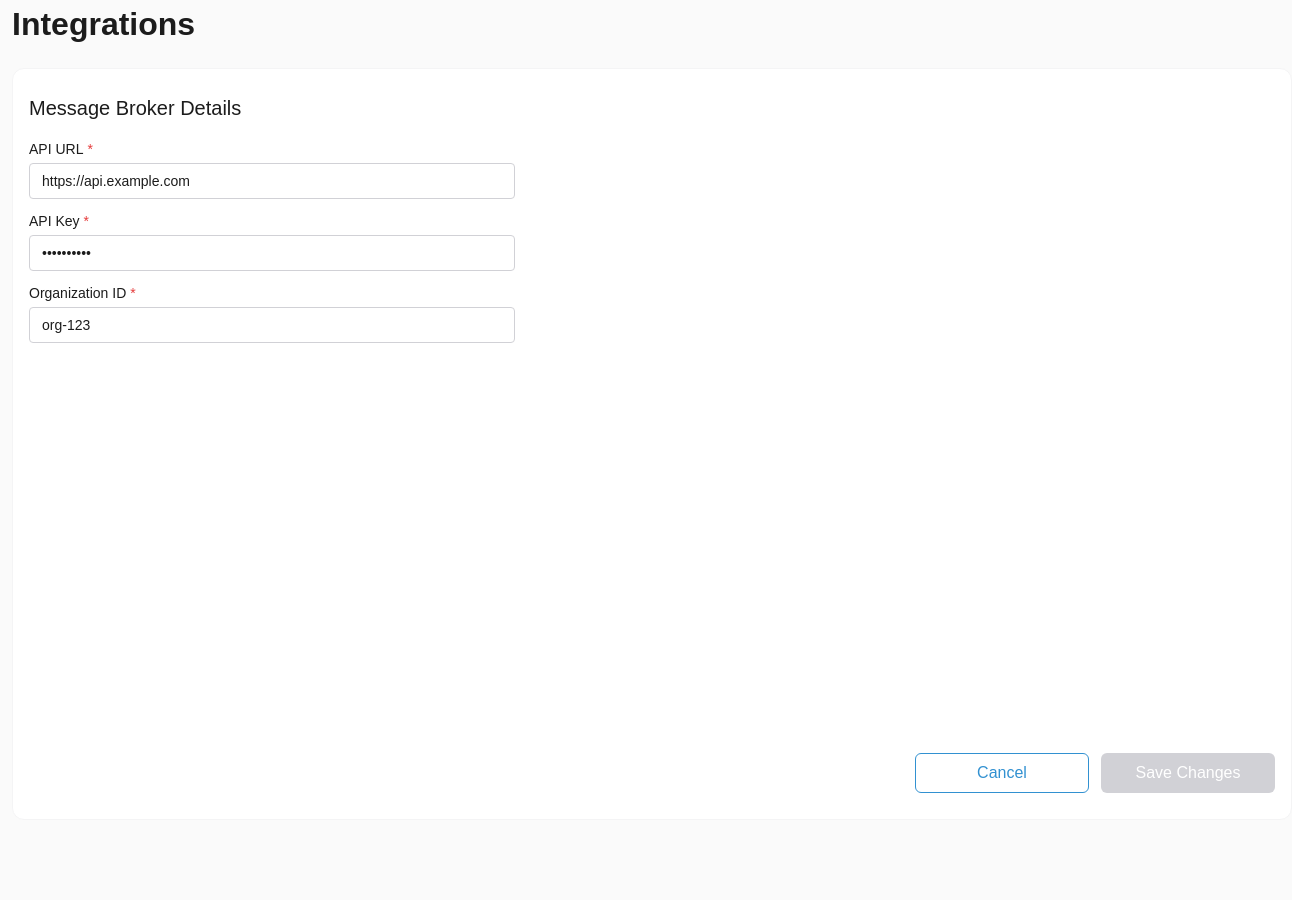
Test case: IntegrationPage › shows inline error for spaces in API URL on save
In the field showing "https://api.example.com": (272, 181) [29,163,515,199], type "https://api.example.com/path with spaces"
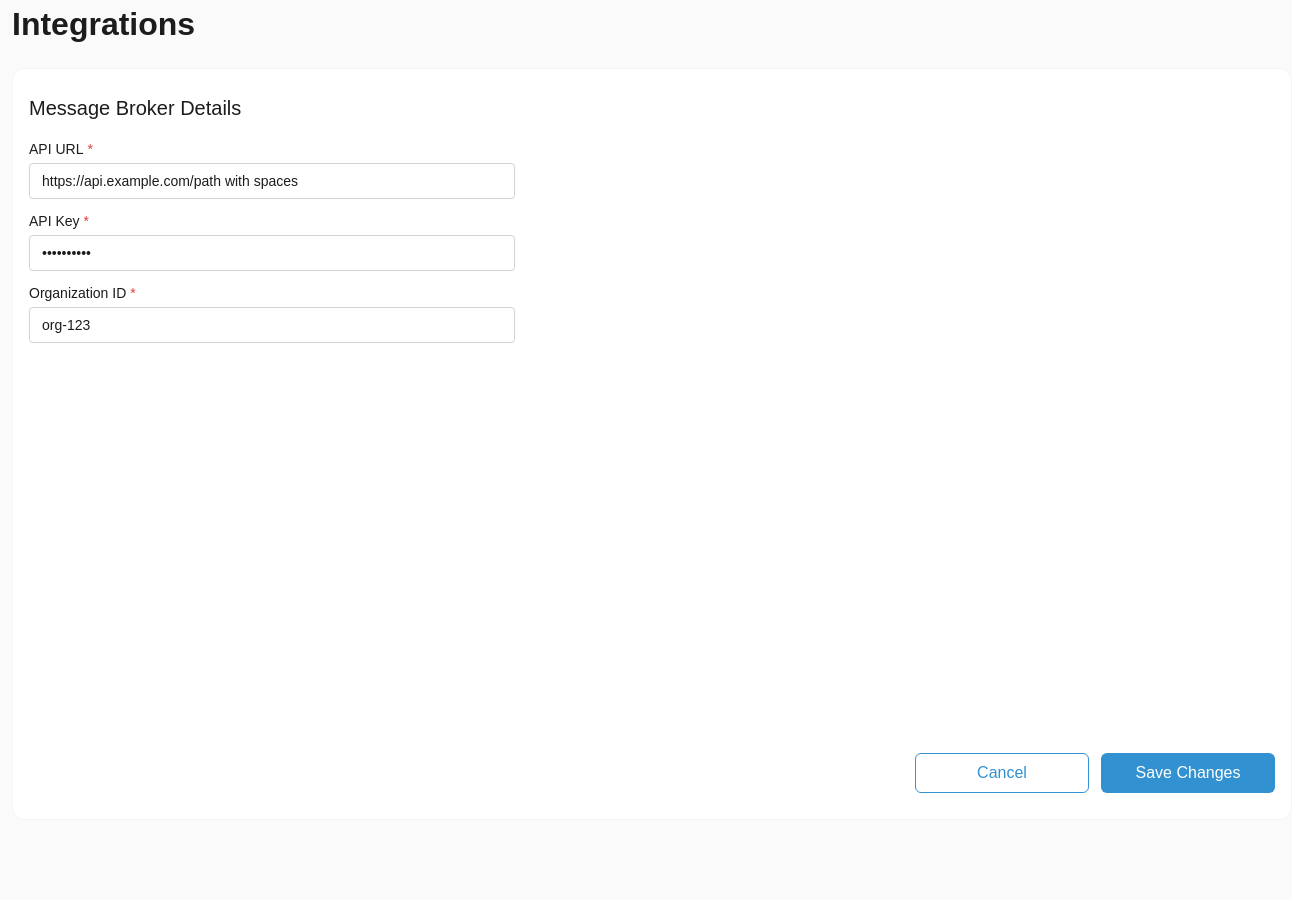
Click the button "Save Changes": (1188, 773) [1101,753,1275,793]
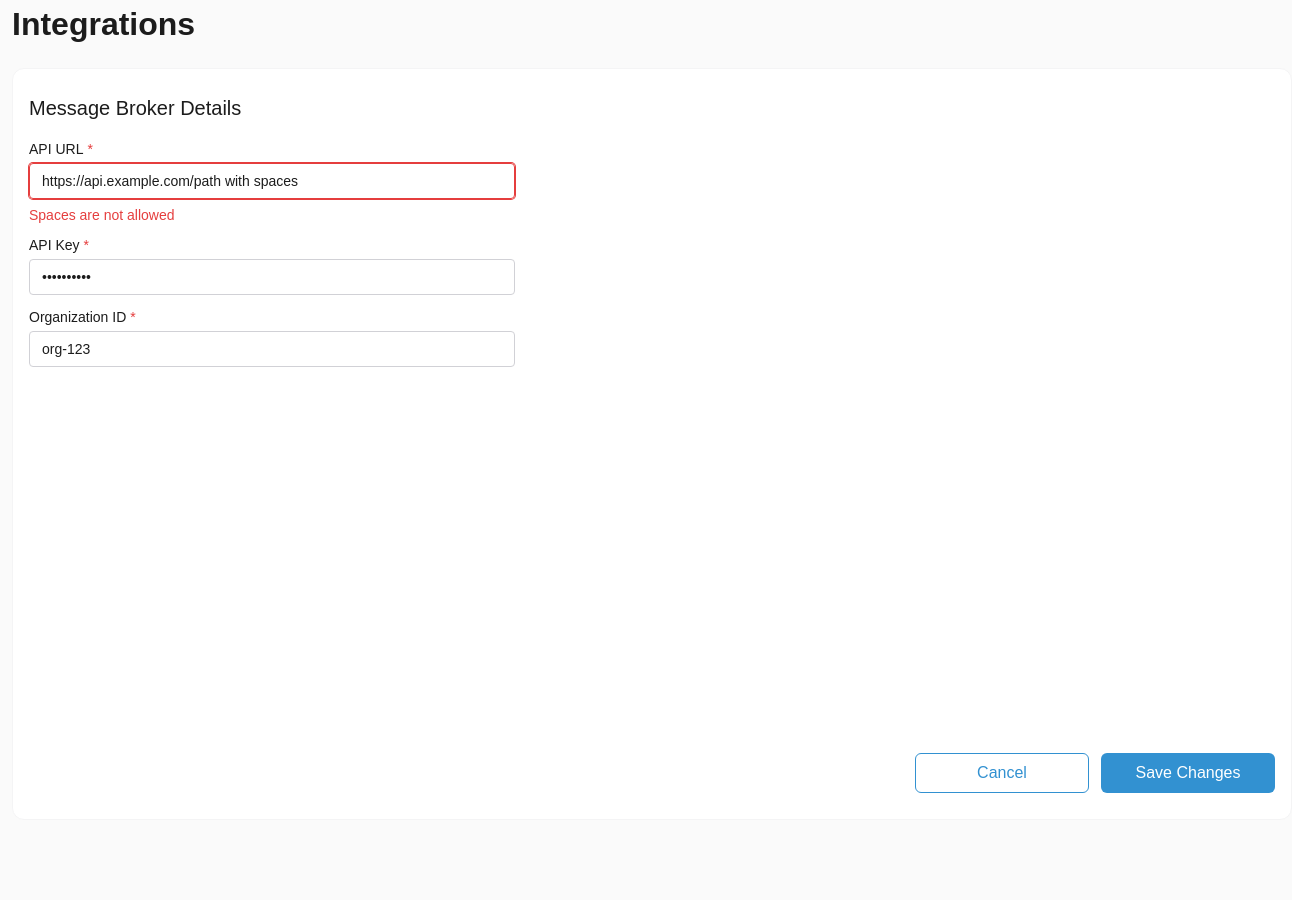
Now the text "Spaces are not allowed" is shown, box [29,207,174,223]
